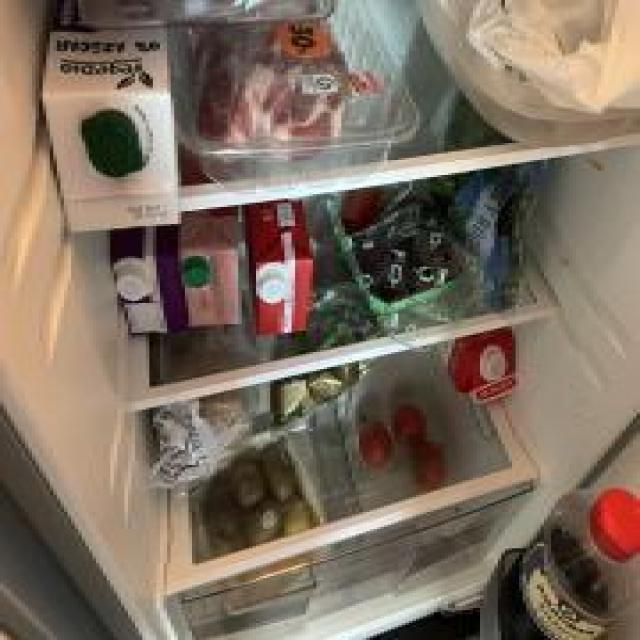avocado: (368, 250, 418, 300), (409, 226, 451, 280)
bread: (158, 344, 262, 497)
milk: (41, 0, 183, 228), (243, 202, 314, 342), (112, 232, 187, 344)
salad: (439, 82, 539, 323)
tomato: (389, 402, 432, 456), (357, 419, 393, 468), (414, 448, 450, 495)
